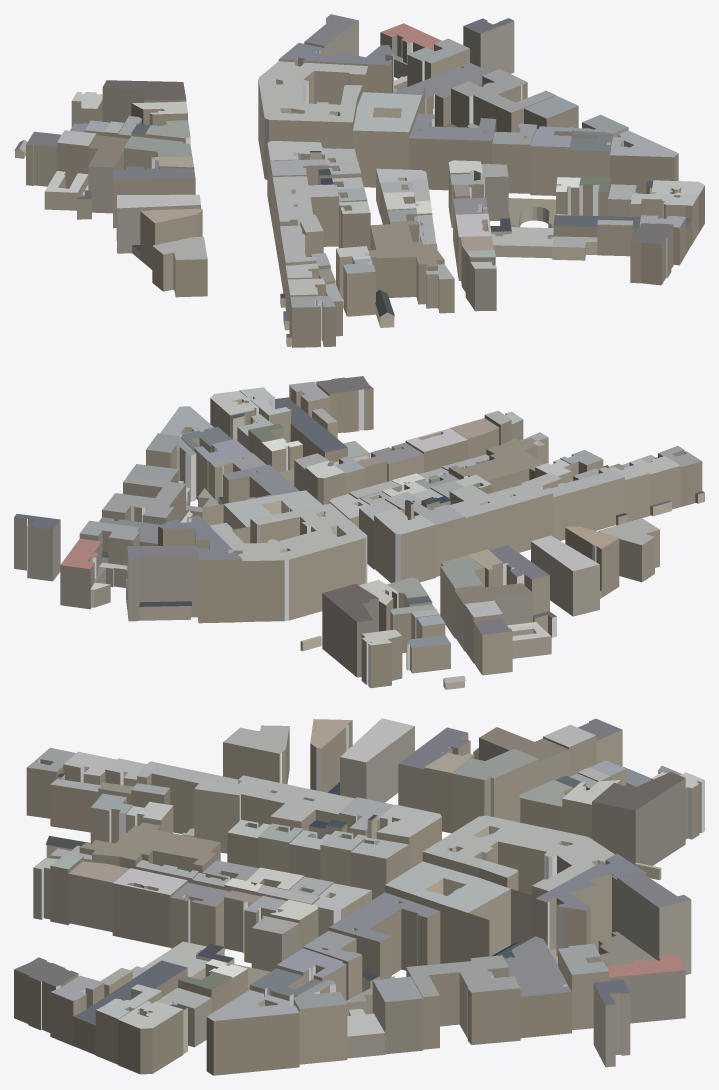
3 renders of one model, top to bottom at view 1: azimuth 30°, elevation 25°; view 2: azimuth 150°, elevation 25°; view 3: azimuth 270°, elevation 25°, orthographic. The views are drawn at different scales.
Visible parts, largest first — view 1: tuile; view 2: tuile; view 3: tuile.
Part boxes in pixels (x1=…): tuile: x1=14, y1=14, x2=704, y2=347; tuile: x1=14, y1=376, x2=704, y2=689; tuile: x1=14, y1=718, x2=704, y2=1075.
Size of the model in its own units: 275 by 39.62 by 273.
